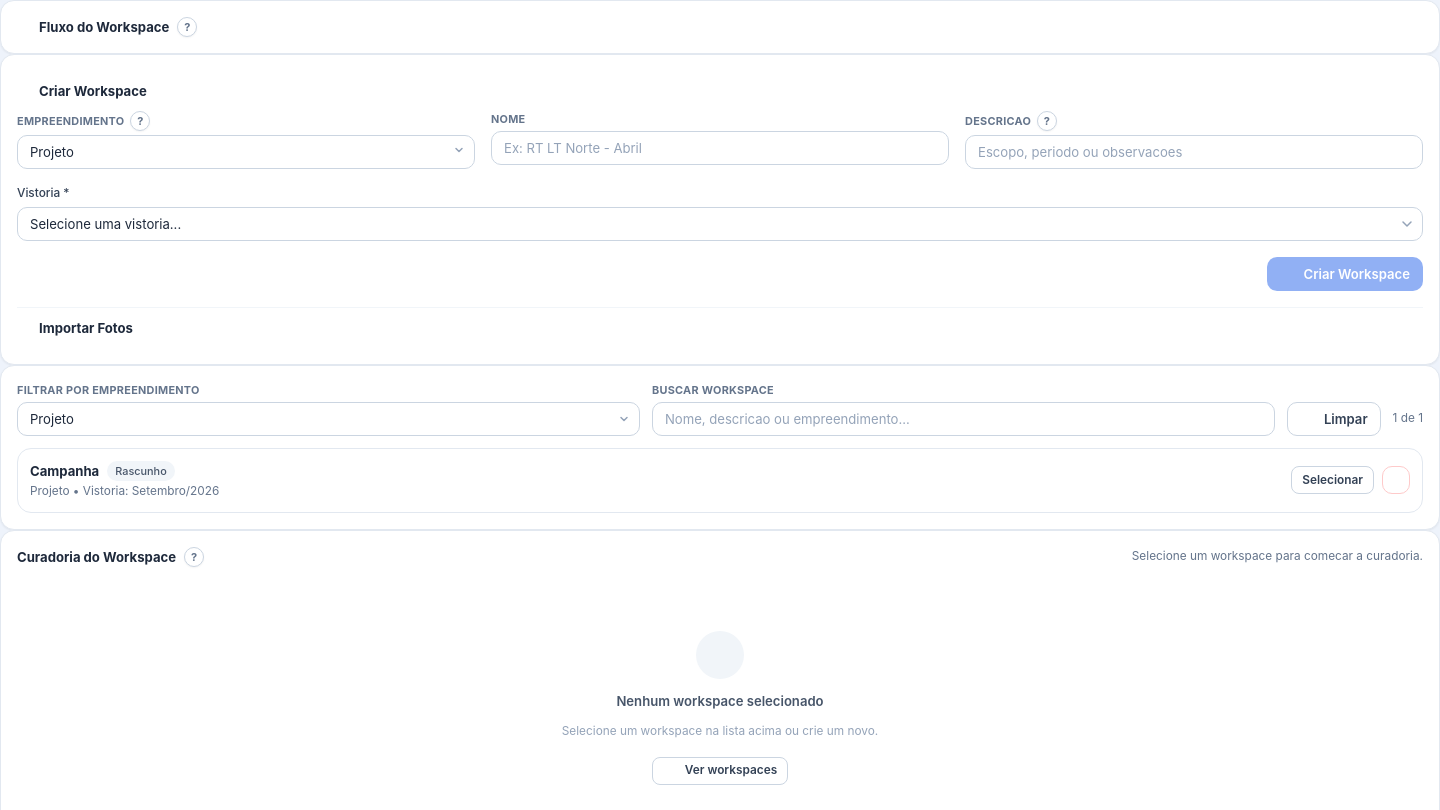
Test: WorkspacesTab — import de fotos (captacao unica + KMZ) › sem alvo, o botao da captacao fica desabilitado; o seletor de modo antigo nao existe mais
Click the button "Importar Fotos" at (86, 328), box [17,308,1423,348]
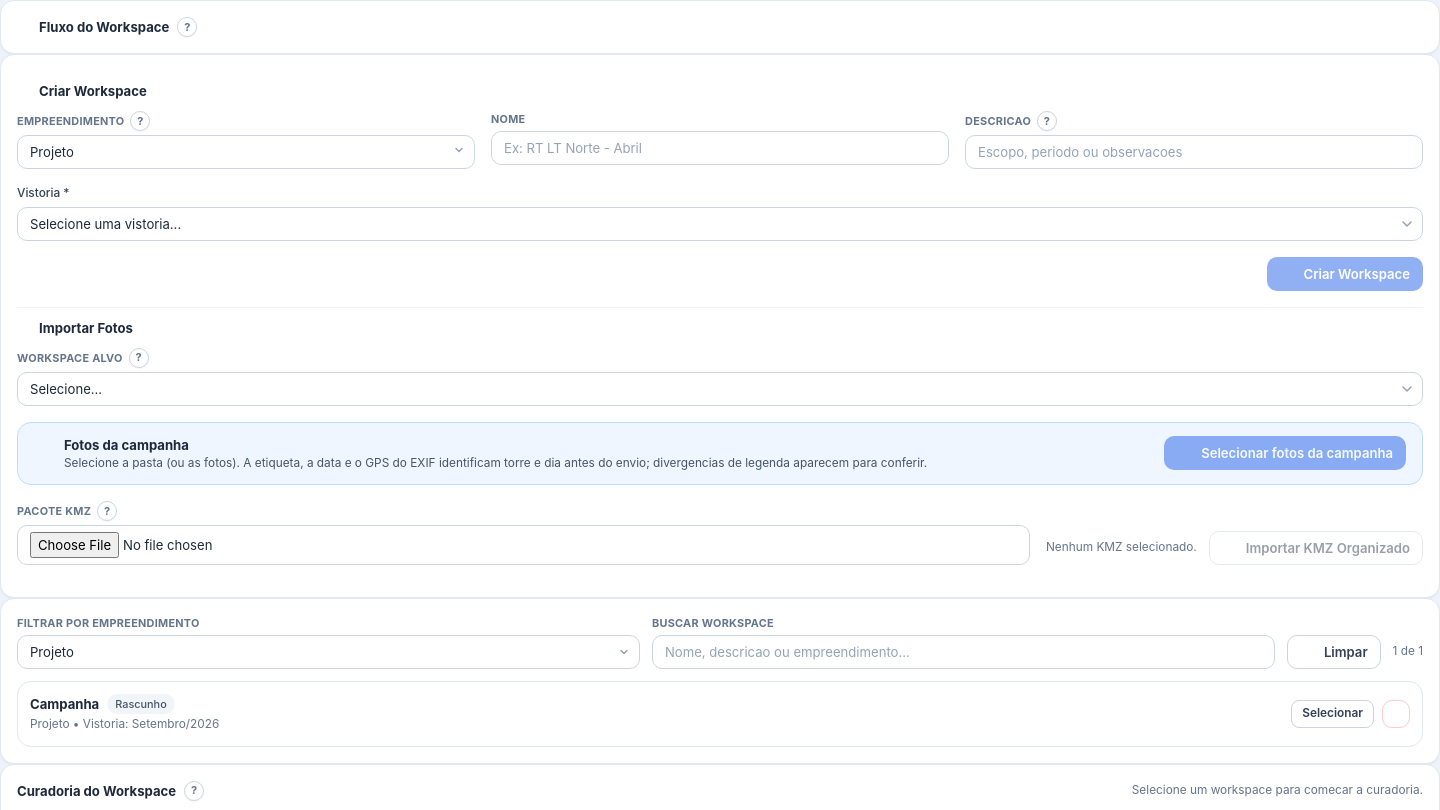
Expected: the button "Selecionar fotos da campanha" is disabled, [1164,436,1406,470]
Expected: the file field with id "rw-import-kmz" is shown, [17,525,1030,565]
